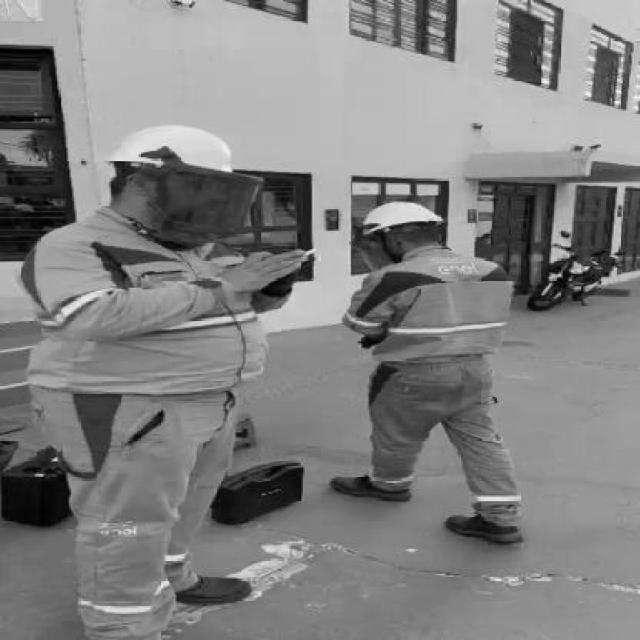hat: (105, 120, 266, 245), (352, 198, 460, 257)
